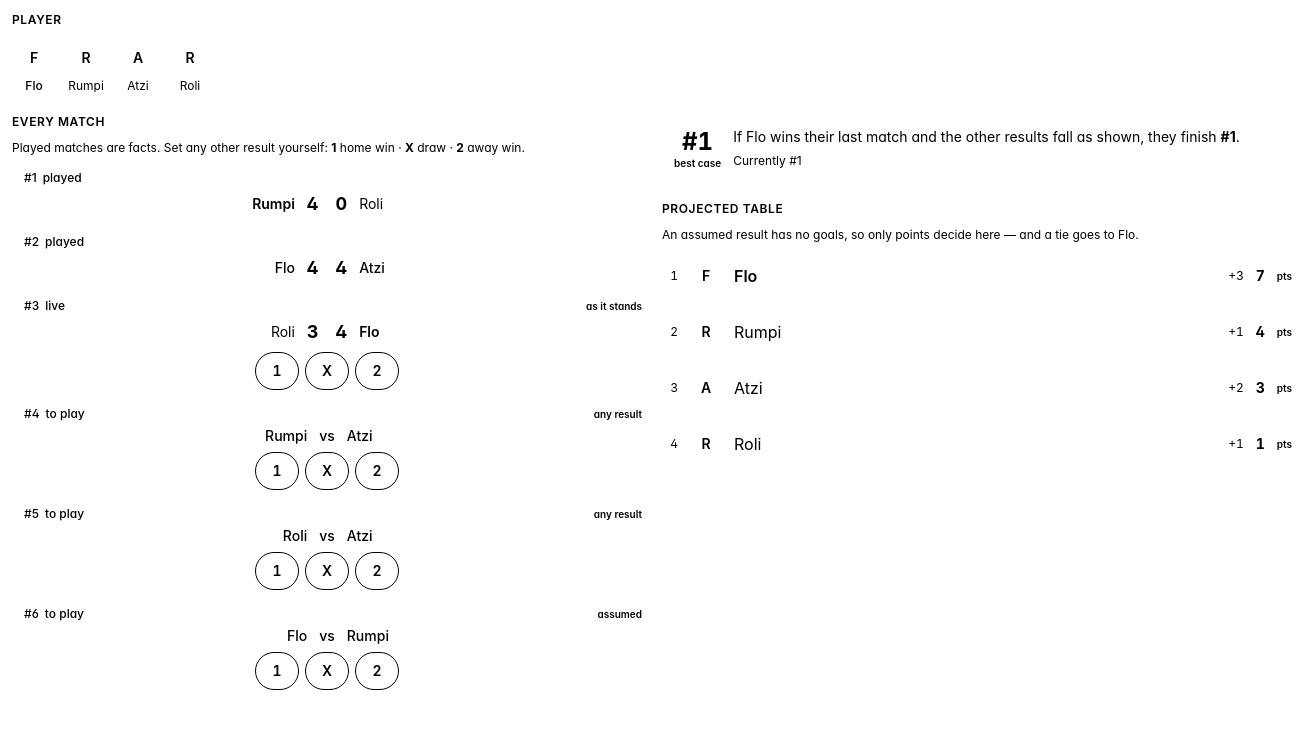
Test case: What if tab › keeps the projected table in sync with the scenario
Click the button titled "Atzi" at (138, 65), box [116,36,160,94]
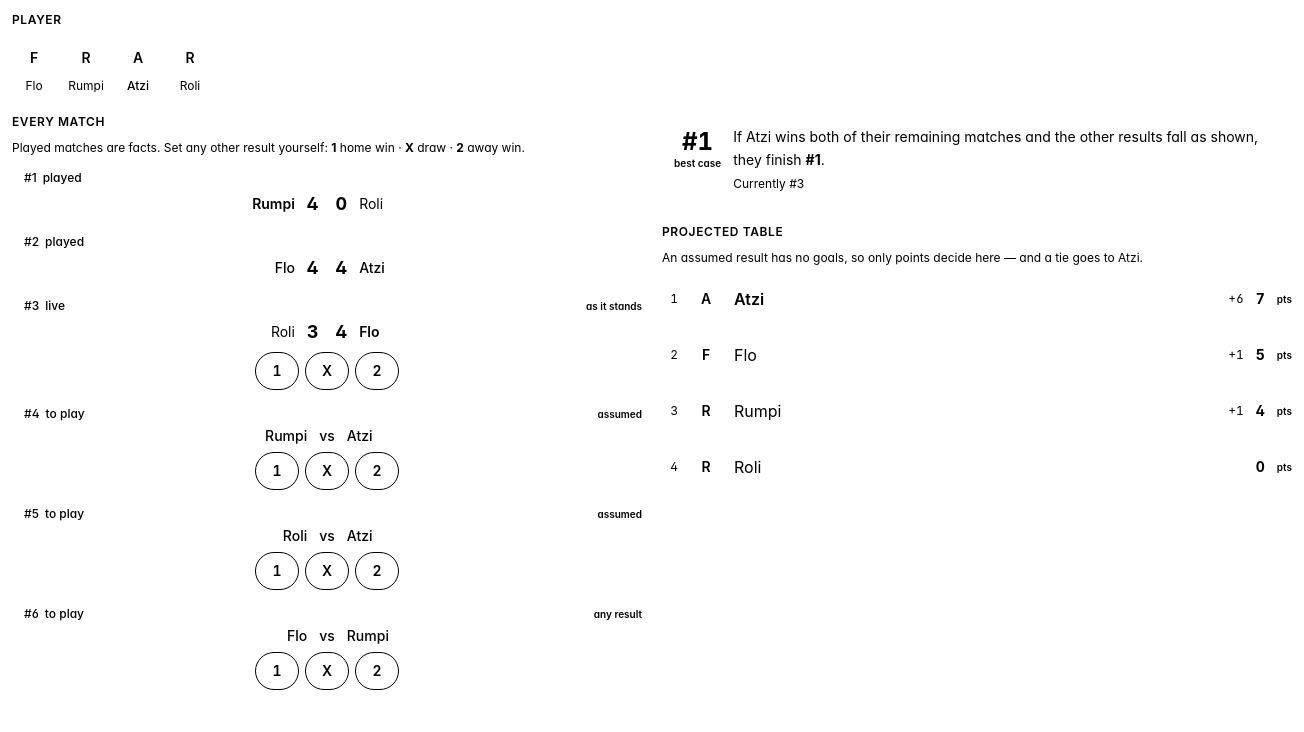
Check: the text "they finish" shows "Atzi wins both of their remaining matches", box [746,128,1022,145]
